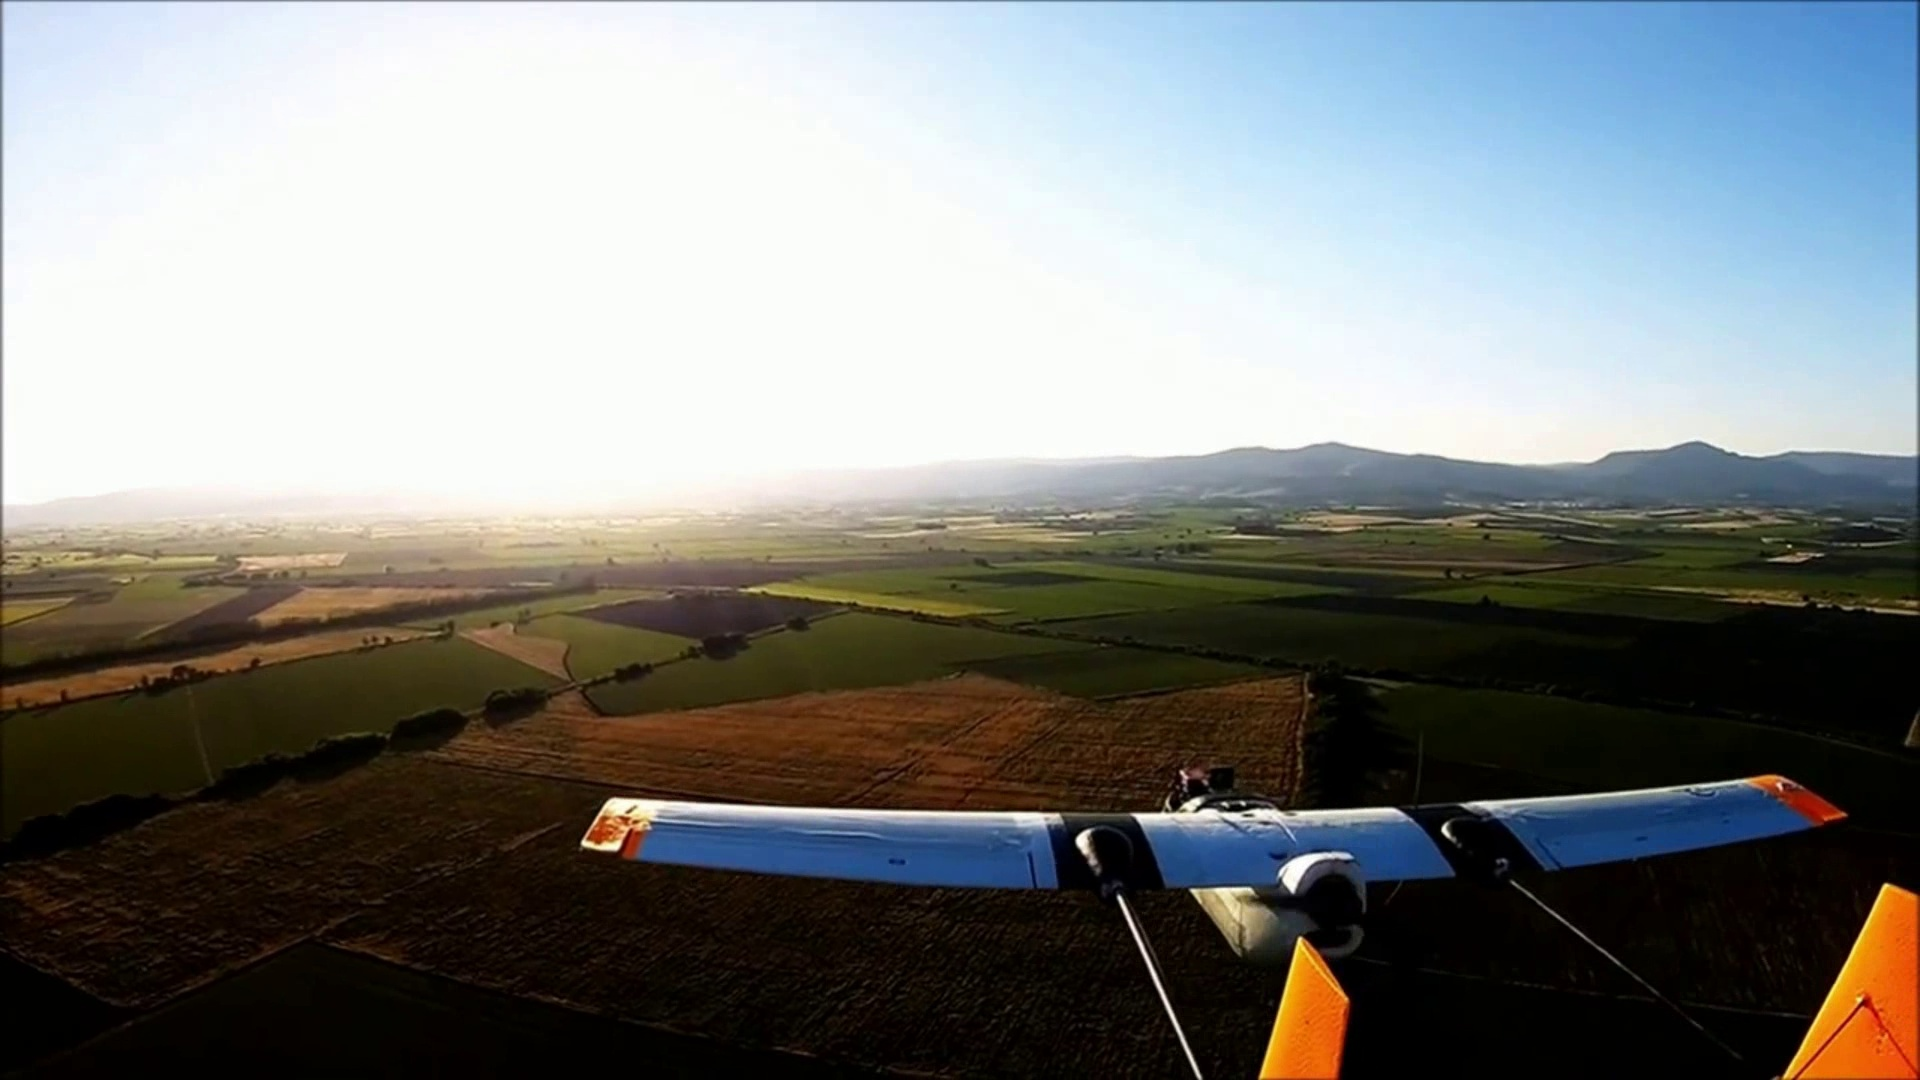airplane: (574, 761, 1873, 1018)
